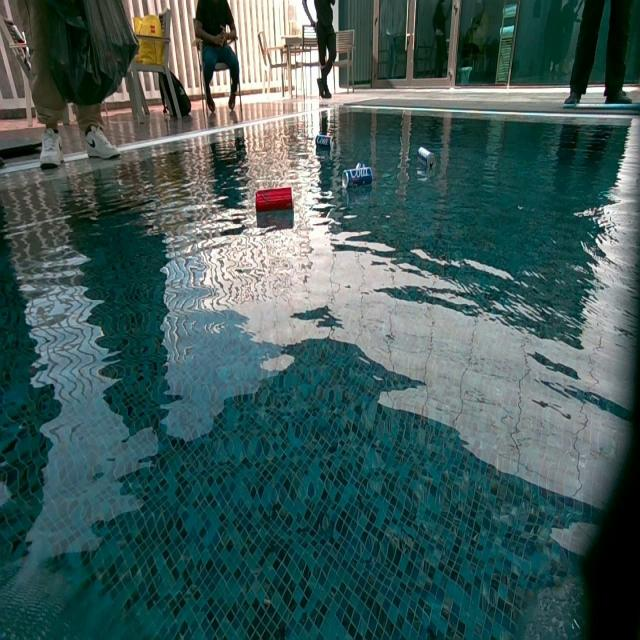Cans: (256, 190, 293, 213), (342, 163, 373, 190), (414, 144, 436, 171), (315, 134, 334, 150)
